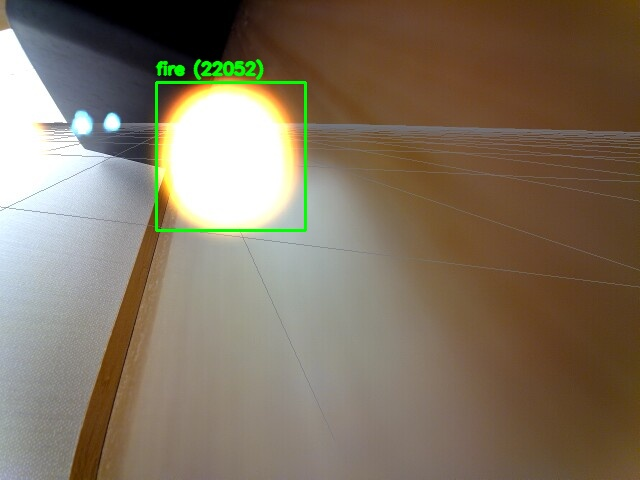fire: (156, 82, 305, 230)
